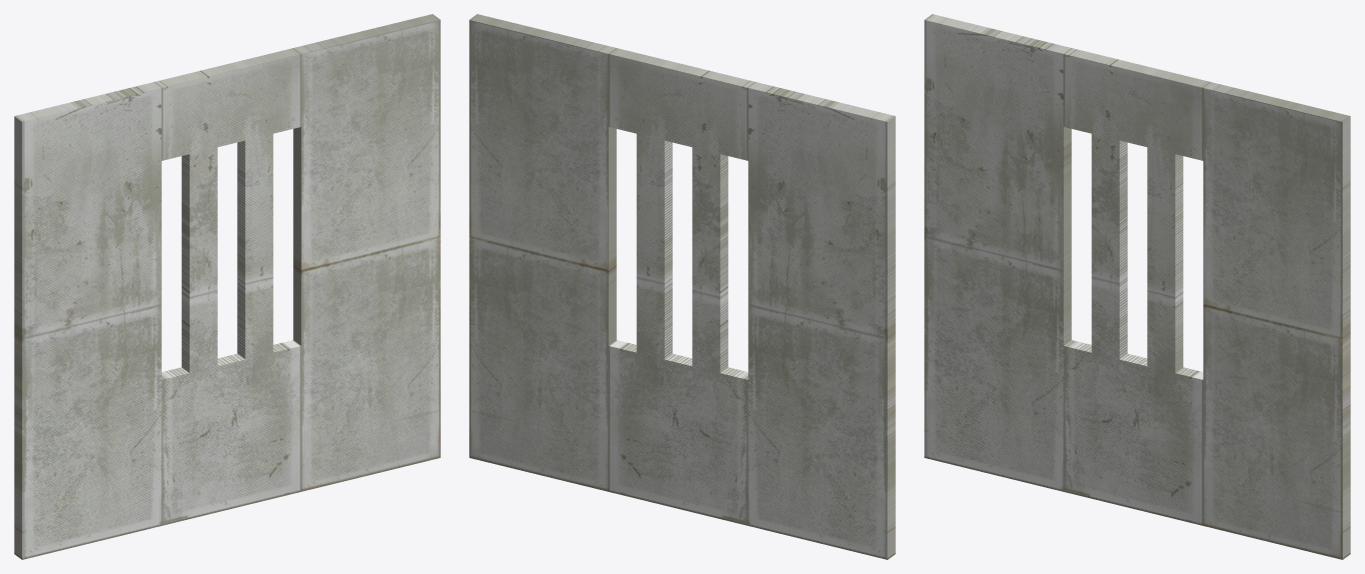
File: Wall2.fbx
The picture shows the model from 3 angles, left to right: view 1: azimuth 30°, elevation 25°; view 2: azimuth 150°, elevation 25°; view 3: azimuth 330°, elevation 25°; orthographic projection.
Visible parts, largest first — view 1: Plane.001; view 2: Plane.001; view 3: Plane.001.
Part boxes in pixels (x1,y1,x2,y2): Plane.001: (14, 14, 440, 559); Plane.001: (469, 14, 895, 559); Plane.001: (924, 14, 1350, 559).
Size of the model in its own units: 1500 by 1500 by 50.
1 material, 1 textured.
